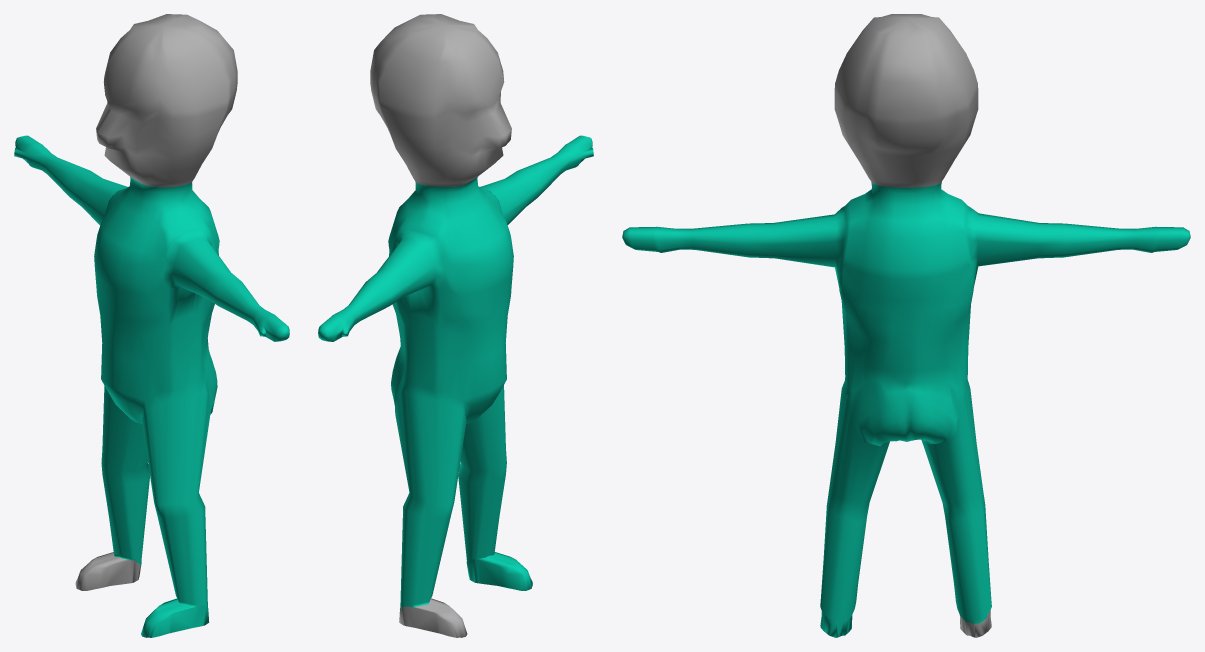
File: person.fbx
3 renders of one model, left to right at view 1: azimuth 30°, elevation 25°; view 2: azimuth 150°, elevation 25°; view 3: azimuth 270°, elevation 25°, orthographic. The views are drawn at different scales.
Visible parts, largest first — view 1: pSphere2; view 2: pSphere2; view 3: pSphere2.
Part boxes in pixels (x1,y1,x2,y2): pSphere2: (14, 14, 289, 637); pSphere2: (318, 14, 593, 637); pSphere2: (622, 14, 1190, 637).
Size of the model in its own units: 2.1 by 8.99 by 7.53.
